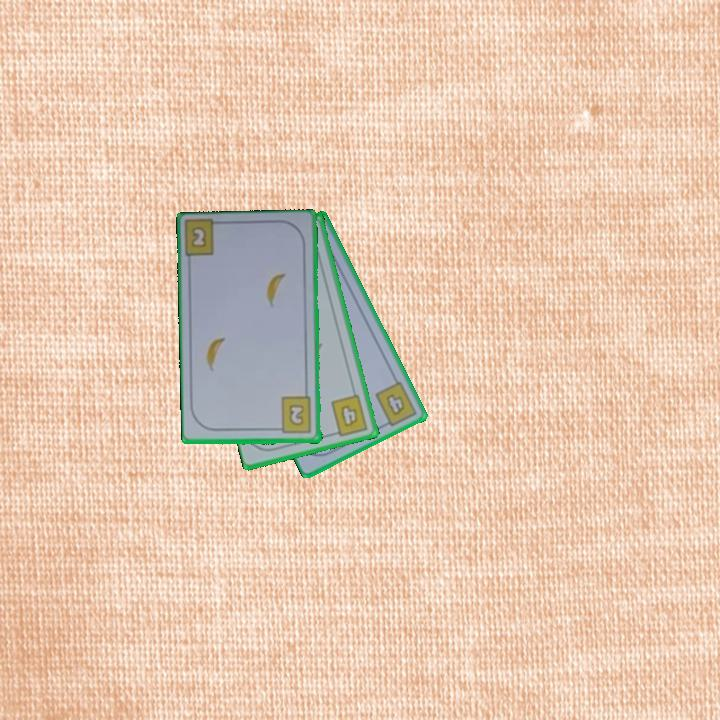2b: (272, 394, 314, 436), (188, 223, 209, 251)
4b: (372, 378, 420, 430), (328, 391, 371, 439)
